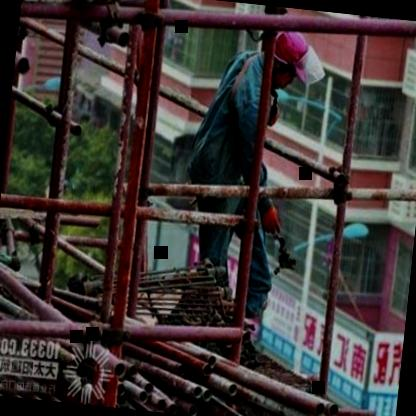helmet: (265, 27, 315, 93)
